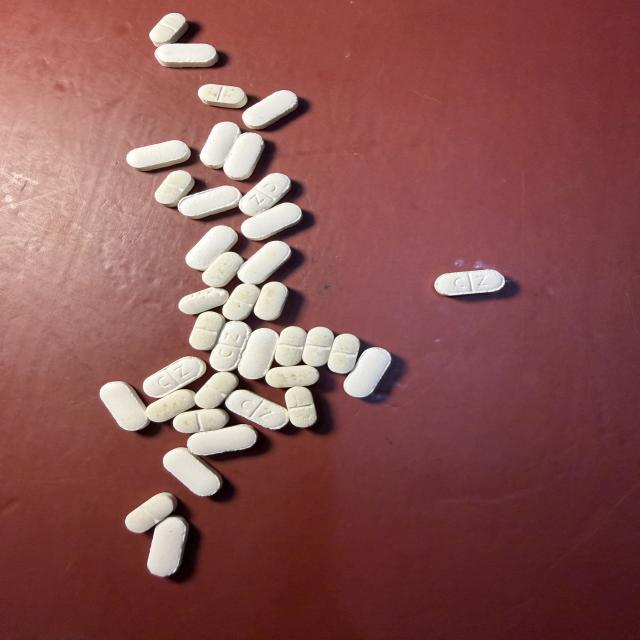pill: (163, 448, 222, 496), (147, 516, 189, 577), (143, 357, 206, 397), (226, 390, 288, 429), (100, 381, 149, 430), (344, 348, 391, 397), (186, 225, 237, 270), (238, 241, 291, 284), (241, 203, 302, 240), (239, 173, 291, 215), (243, 90, 298, 129), (125, 493, 177, 533), (178, 186, 241, 219), (188, 425, 257, 455), (210, 321, 251, 371), (238, 328, 278, 379), (126, 140, 190, 171), (224, 133, 264, 180), (200, 122, 240, 168), (435, 270, 505, 296), (147, 389, 195, 422), (195, 372, 238, 408), (172, 408, 229, 434), (155, 44, 218, 67), (155, 170, 194, 207), (203, 252, 244, 287), (189, 311, 225, 350), (222, 284, 260, 320), (254, 282, 288, 320), (285, 387, 317, 427), (179, 288, 228, 314), (149, 13, 187, 46), (275, 327, 306, 366), (328, 334, 359, 373), (198, 84, 247, 108), (303, 327, 333, 366), (266, 365, 319, 387)
